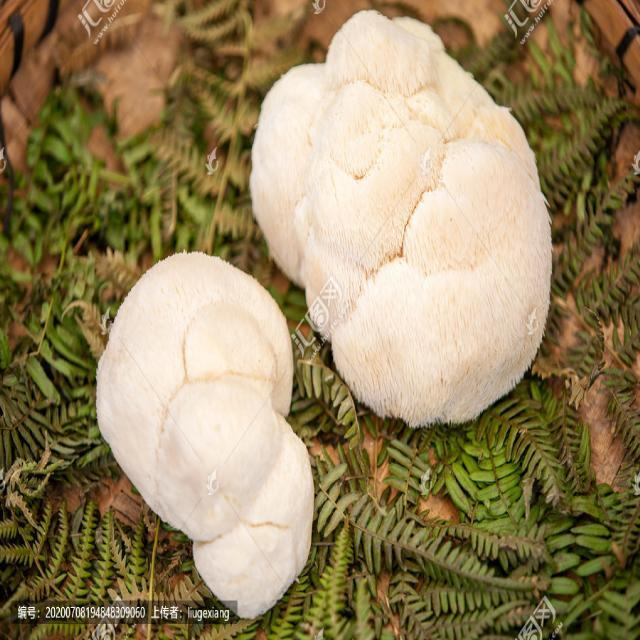Hericium erinaceus: (251, 8, 554, 429), (92, 252, 314, 620)
